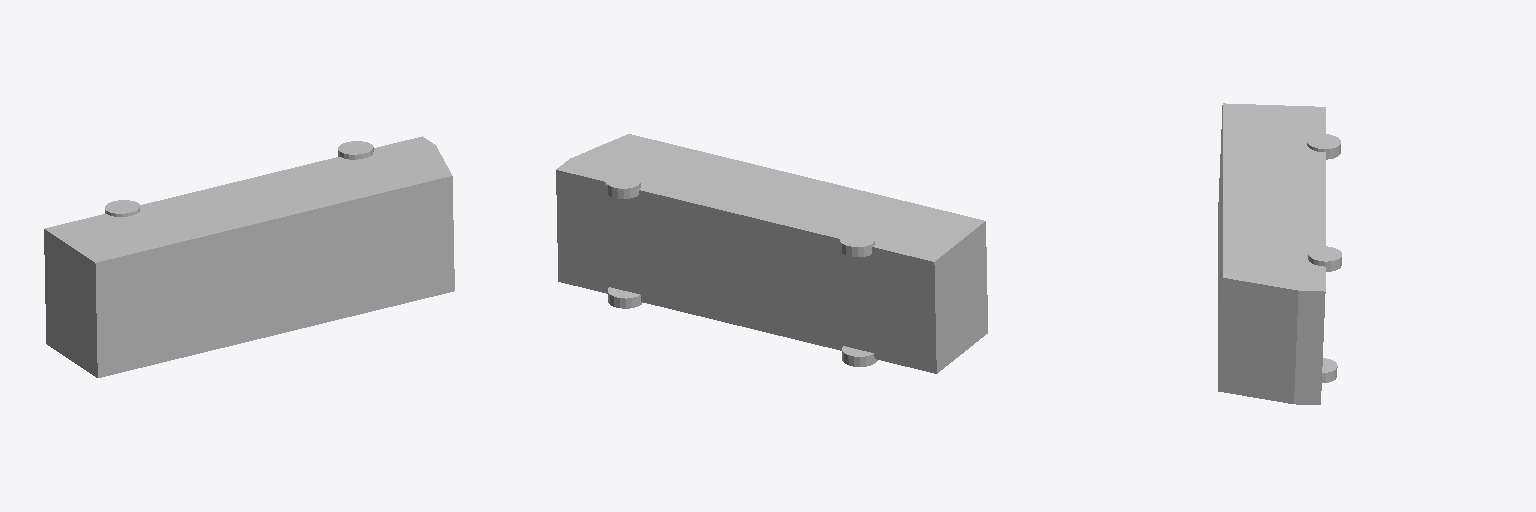
The model's file is bus2.obj.
3 renders of one model, left to right at view 1: azimuth 30°, elevation 25°; view 2: azimuth 150°, elevation 25°; view 3: azimuth 270°, elevation 25°, orthographic.
Visible parts, largest first — view 1: Car_12.002; view 2: Car_12.002; view 3: Car_12.002.
Boxes of the visible parts, x1,y1,x2,y2 form: Car_12.002: [44, 136, 454, 377]; Car_12.002: [556, 134, 987, 373]; Car_12.002: [1218, 103, 1341, 404].
Bounding box in the file's own units: 5.85 × 1.84 × 1.66.